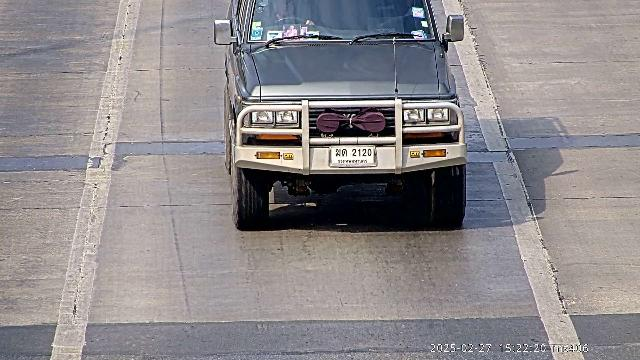pickup-truck: (213, 0, 468, 230)
